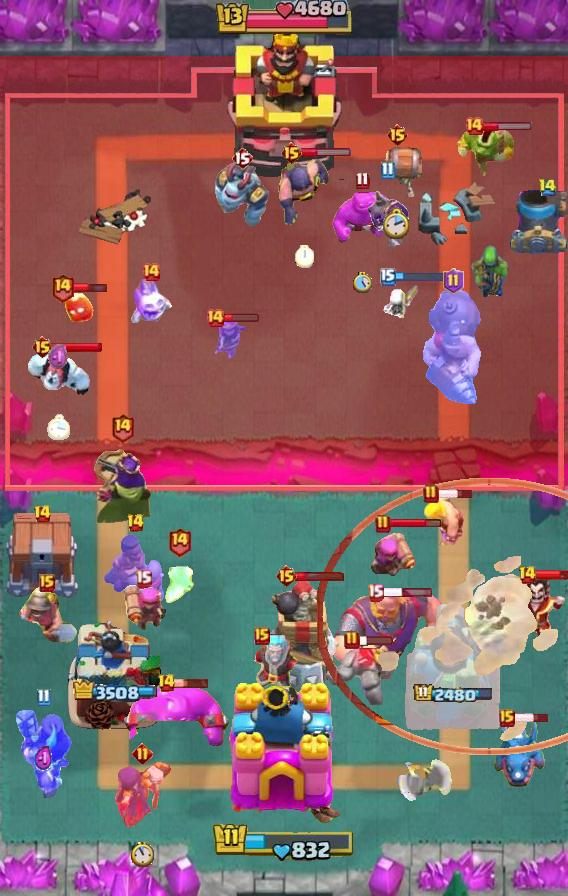archer: (213, 314, 247, 360)
axe: (397, 746, 453, 804)
bar: (51, 341, 103, 353), (389, 518, 442, 529), (381, 587, 433, 598), (393, 271, 445, 282), (301, 147, 352, 158), (482, 121, 533, 132), (295, 571, 345, 582), (73, 281, 108, 294), (513, 712, 550, 724), (173, 677, 210, 689), (437, 488, 474, 500), (358, 634, 394, 646), (534, 569, 568, 581), (223, 312, 260, 323)
bar-level: (167, 526, 192, 557), (110, 412, 135, 443), (50, 272, 75, 303), (275, 564, 298, 588), (31, 335, 54, 359), (280, 141, 303, 165), (386, 123, 409, 147), (443, 268, 464, 294), (231, 146, 253, 170), (132, 743, 153, 764), (205, 308, 225, 328), (141, 262, 161, 282), (464, 116, 484, 136), (157, 673, 176, 693), (518, 565, 537, 585), (126, 513, 145, 533), (33, 504, 52, 524), (538, 178, 557, 197), (367, 583, 384, 602), (135, 569, 152, 588), (344, 630, 360, 650), (375, 514, 391, 534), (423, 484, 439, 504), (499, 709, 515, 727), (254, 627, 270, 645), (39, 574, 55, 592), (380, 268, 396, 286), (36, 688, 51, 707), (355, 171, 370, 190), (380, 161, 395, 180)
barbarian: (421, 490, 465, 545)
bat-evolution: (161, 561, 197, 607)
bomber-evolution: (365, 183, 409, 249)
cannoneer-tower: (403, 601, 503, 731)
clock: (383, 207, 411, 241), (47, 414, 71, 440), (131, 841, 154, 867), (295, 245, 314, 268), (353, 272, 372, 293)
electro-dragon: (492, 717, 546, 789)
electro-wizard: (506, 576, 568, 652)
elixir: (48, 343, 70, 371), (34, 745, 53, 773)
elixir-golem-mid: (330, 191, 394, 245)
executioner: (277, 157, 331, 227)
fire-spirit: (63, 291, 95, 325)
firecracker: (369, 526, 417, 580), (121, 580, 166, 630)
goblin-brawler: (457, 123, 517, 177)
golemite: (324, 643, 400, 705)
ice-spirit-evolution: (130, 276, 172, 326)
ice-wizard: (234, 632, 310, 708)
king-tower: (224, 29, 344, 181), (222, 680, 346, 826)
king-tower-bar: (212, 821, 356, 863), (213, 0, 355, 38)
mega-minion: (212, 159, 272, 229)
miner: (15, 581, 79, 645)
mortar: (508, 190, 568, 254)
queen-tower: (65, 617, 163, 731)
ram-rider: (102, 533, 168, 609)
skeleton: (382, 282, 423, 326)
spear-goblin: (470, 243, 510, 301)
tower-bar: (71, 679, 157, 703), (413, 683, 494, 705)
wall-breaker: (372, 146, 422, 200)
witch: (112, 759, 172, 827)
